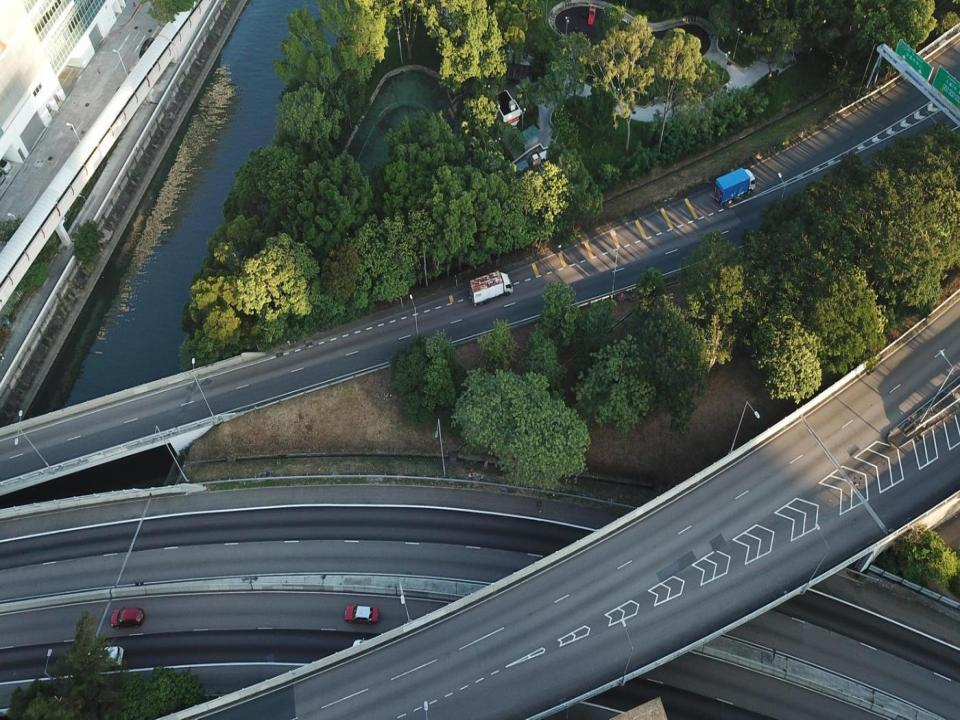car: (344, 604, 380, 626), (111, 607, 146, 627), (88, 647, 124, 666), (139, 36, 157, 58), (0, 159, 10, 172)
truck: (469, 270, 512, 307), (714, 167, 755, 203)
